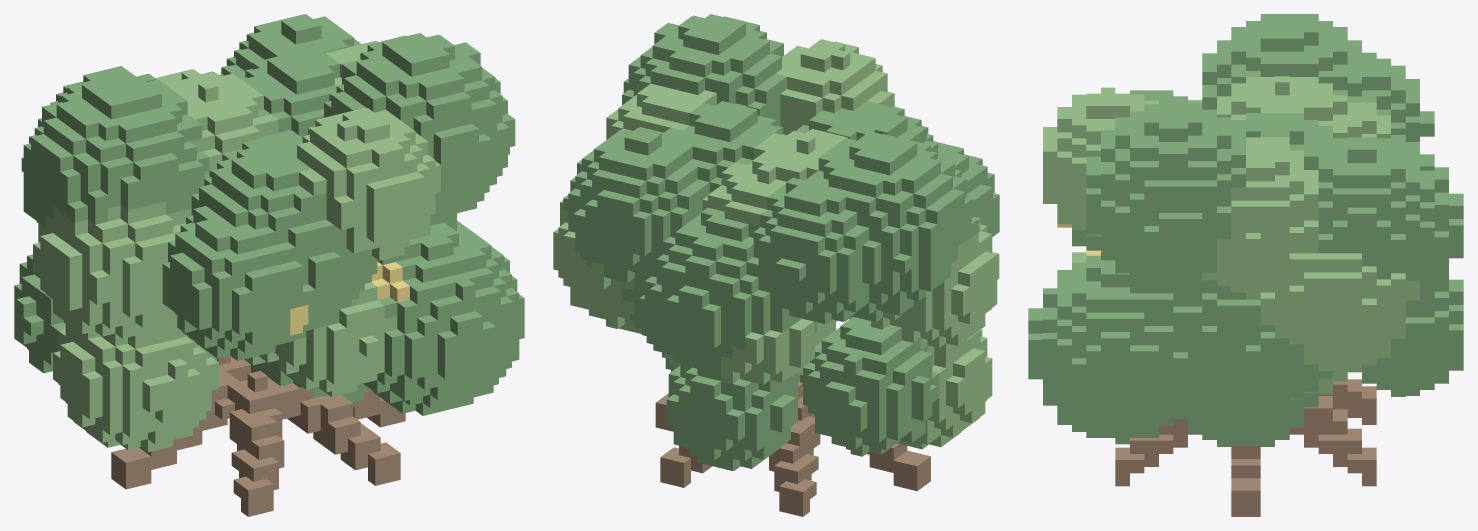
The model's file is shrub.glb.
The picture shows the model from 3 angles, left to right: view 1: azimuth 30°, elevation 25°; view 2: azimuth 150°, elevation 25°; view 3: azimuth 270°, elevation 25°; orthographic projection. The views are drawn at different scales.
Visible parts, largest first — view 1: item; view 2: item; view 3: item.
Part boxes in pixels (x1,y1,x2,y2): item: [14, 14, 524, 516]; item: [553, 14, 999, 516]; item: [1028, 14, 1463, 516].
Bounding box in the file's own units: 32 × 30 × 30.
